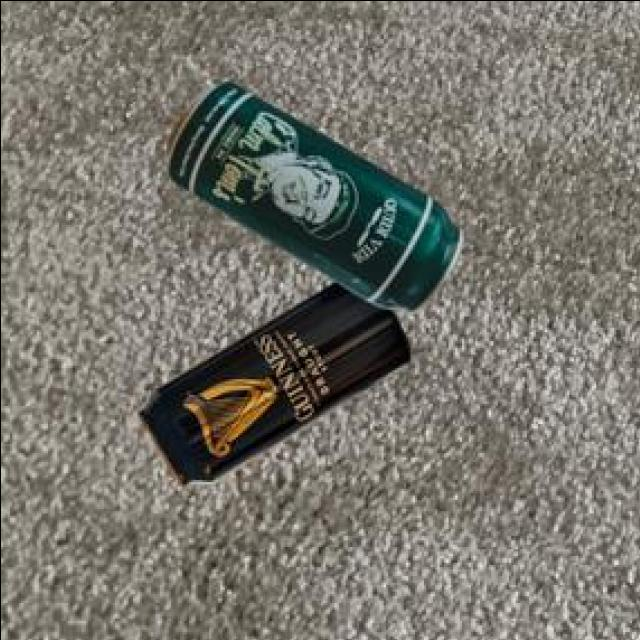logam: (162, 77, 460, 308), (135, 279, 406, 482)
